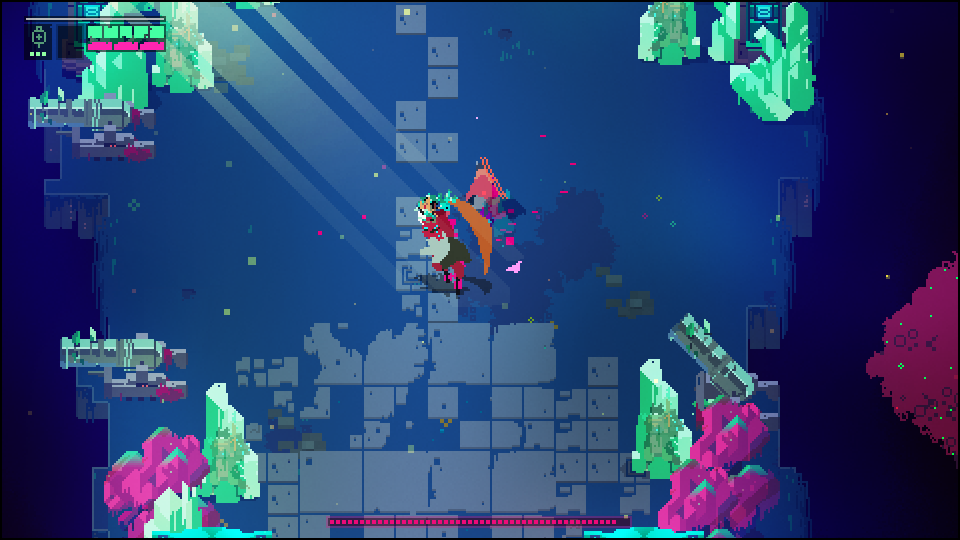hanged_man: (405, 190, 479, 290)
player: (464, 151, 508, 214)
